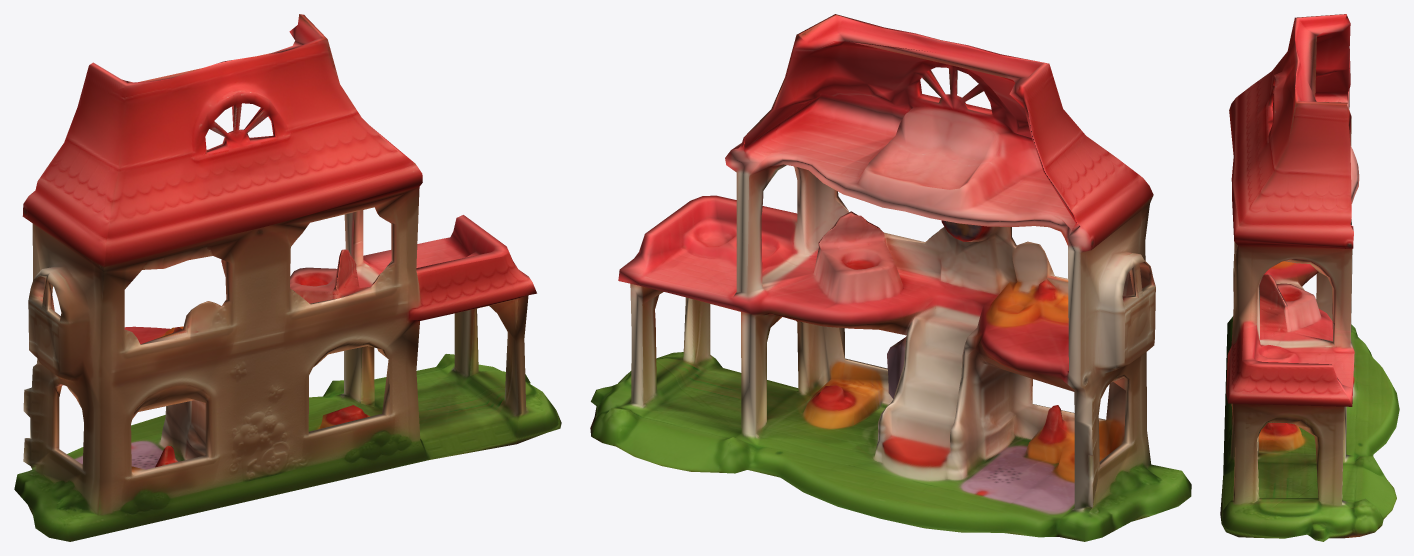
The model's file is Pinkhouse_2556tris.fbx.
3 views of the same model, side by side, from view 1: azimuth 30°, elevation 25°; view 2: azimuth 150°, elevation 25°; view 3: azimuth 270°, elevation 25° (orthographic). The views are drawn at different scales.
Parts seen in each view (by area): view 1: Model; view 2: Model; view 3: Model.
Part boxes in pixels (x1,y1,x2,y2): Model: [14, 14, 561, 541]; Model: [590, 14, 1191, 541]; Model: [1220, 14, 1399, 541].
Bounding box in the file's own units: 55.27 × 41.95 × 19.17.
Materials: 1 (1 with a texture image).
